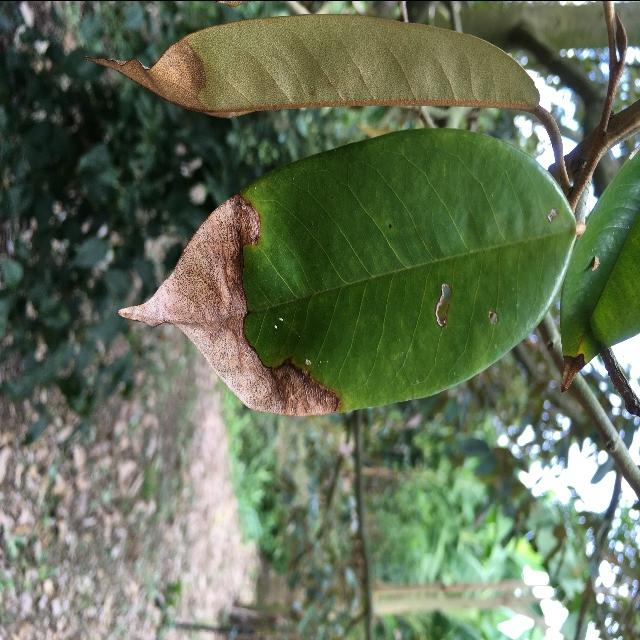Leaf Blight: (111, 117, 595, 422)
